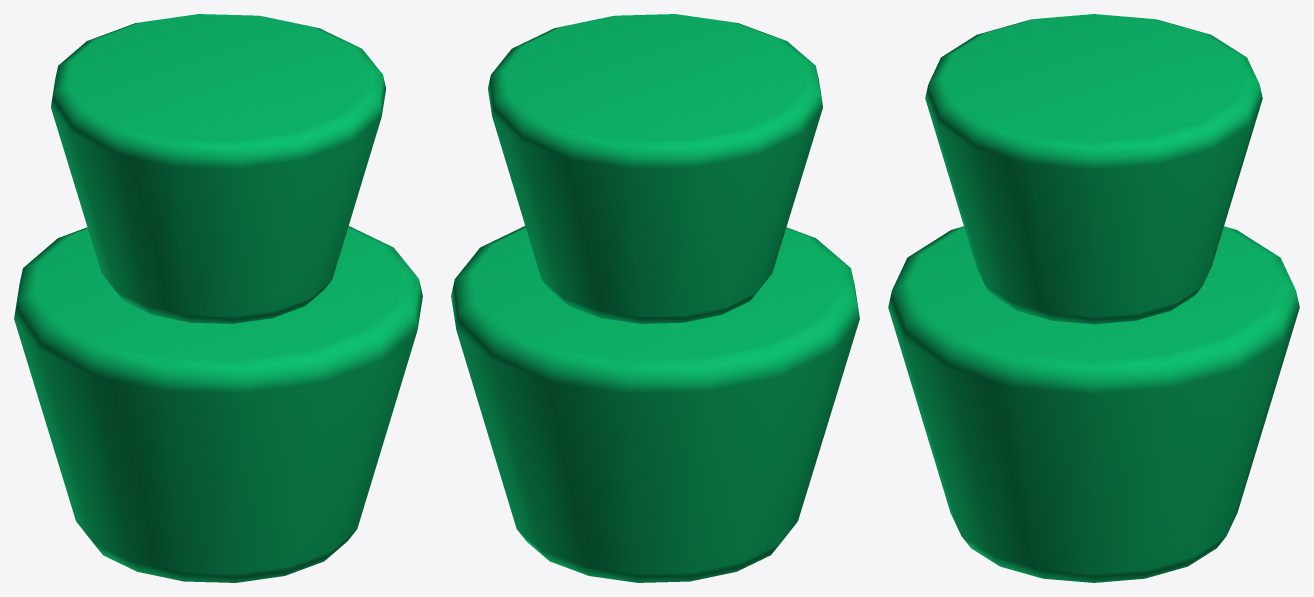
The model's file is Town_8_Plant_2.glb.
3 views of the same model, side by side, from view 1: azimuth 30°, elevation 25°; view 2: azimuth 150°, elevation 25°; view 3: azimuth 270°, elevation 25° (orthographic).
Parts seen in each view (by area): view 1: Town_8_Plant_2; view 2: Town_8_Plant_2; view 3: Town_8_Plant_2.
Part boxes in pixels (<box>): Town_8_Plant_2: <box>14,14,422,582</box>; Town_8_Plant_2: <box>451,14,859,582</box>; Town_8_Plant_2: <box>888,14,1299,582</box>.
Bounding box in the file's own units: 0.7453 × 0.9072 × 0.7453.
Materials: 1 (1 with a texture image).
